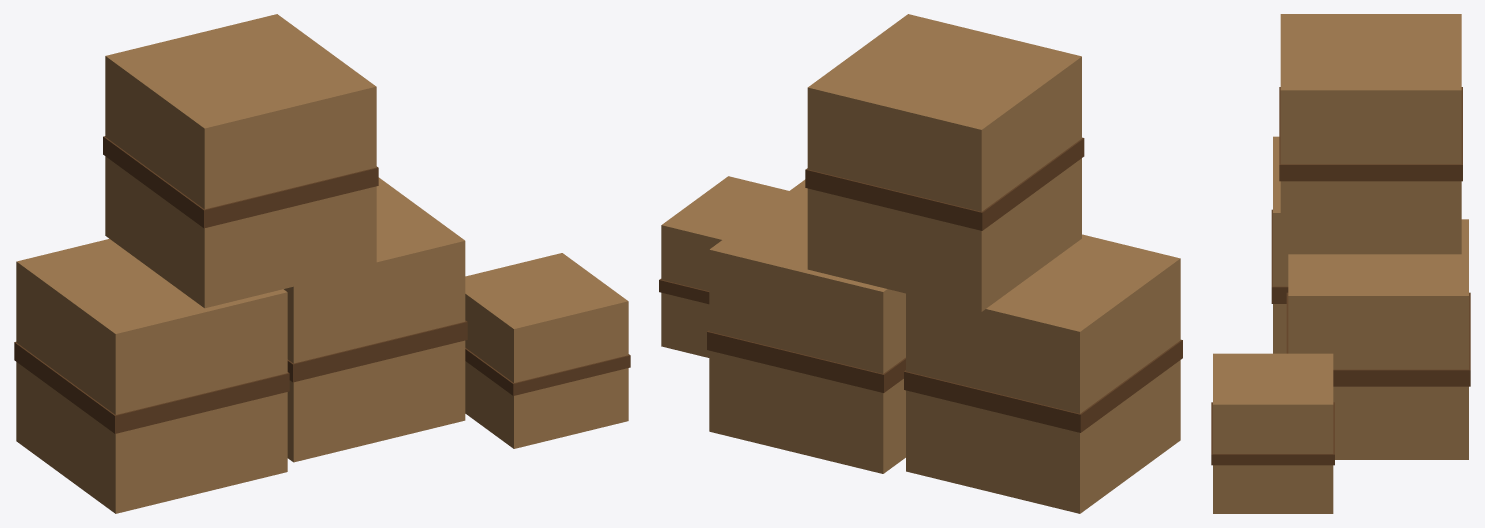
File: crates.glb
The picture shows the model from 3 angles, left to right: view 1: azimuth 30°, elevation 25°; view 2: azimuth 150°, elevation 25°; view 3: azimuth 270°, elevation 25°; orthographic projection. The views are drawn at different scales.
Visible parts, largest first — view 1: crates; view 2: crates; view 3: crates.
Boxes of the visible parts, box(x1,y1,x2,y2) form: crates: box(14, 14, 630, 513); crates: box(659, 14, 1182, 513); crates: box(1211, 14, 1470, 513).
Size of the model in its own units: 3.37 by 2.4 by 1.72.
